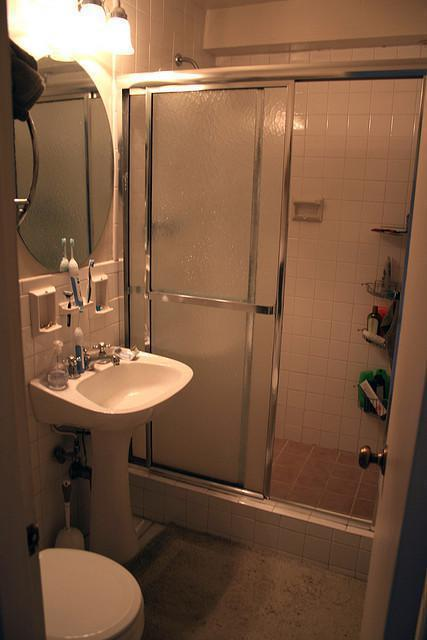Ducha: (113, 53, 416, 583)
Lavamanos: (28, 325, 200, 570)
Sanitario: (0, 537, 163, 633)
